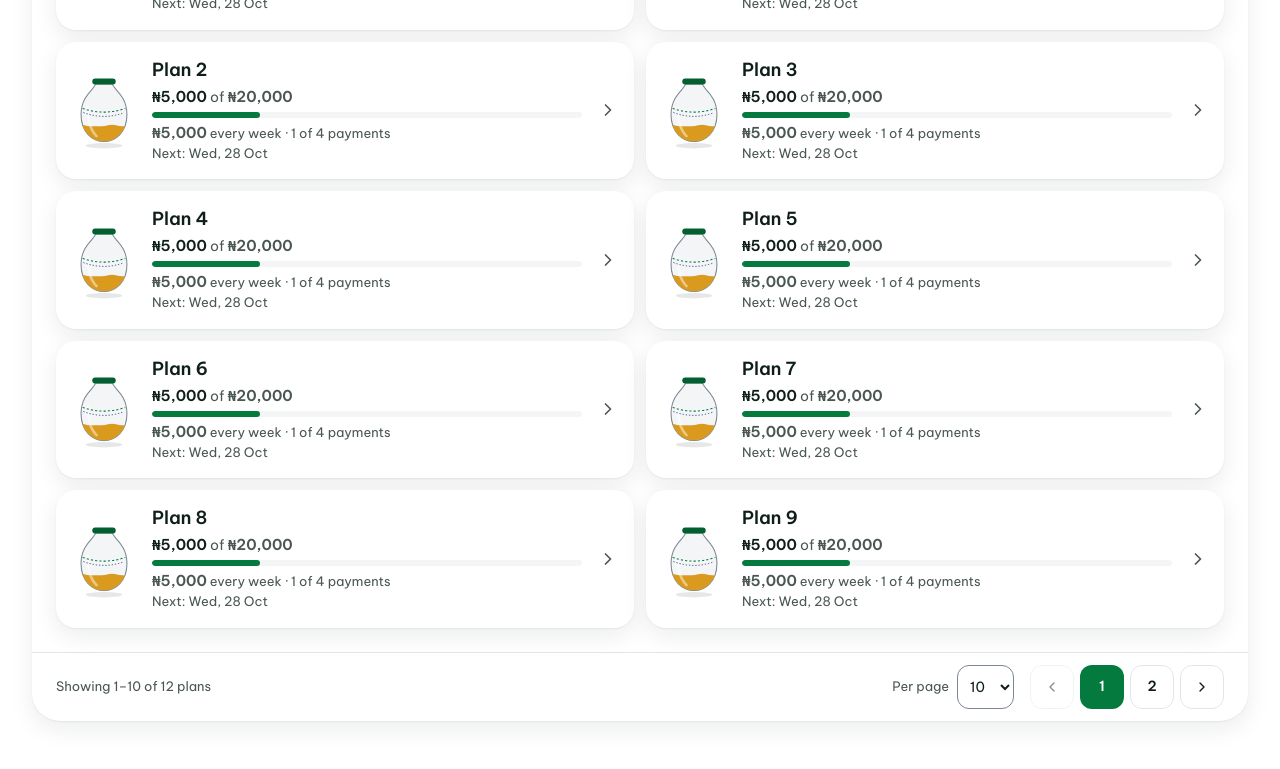
it: the savings home › pages through the plans, ten to a page
(page scrolled)
Expected: the text "Showing 1–10 of 12 plans" is shown, [56, 678, 211, 694]
Click the button named "Next page" at (1202, 686), box [1180, 664, 1224, 708]
(page scrolled)
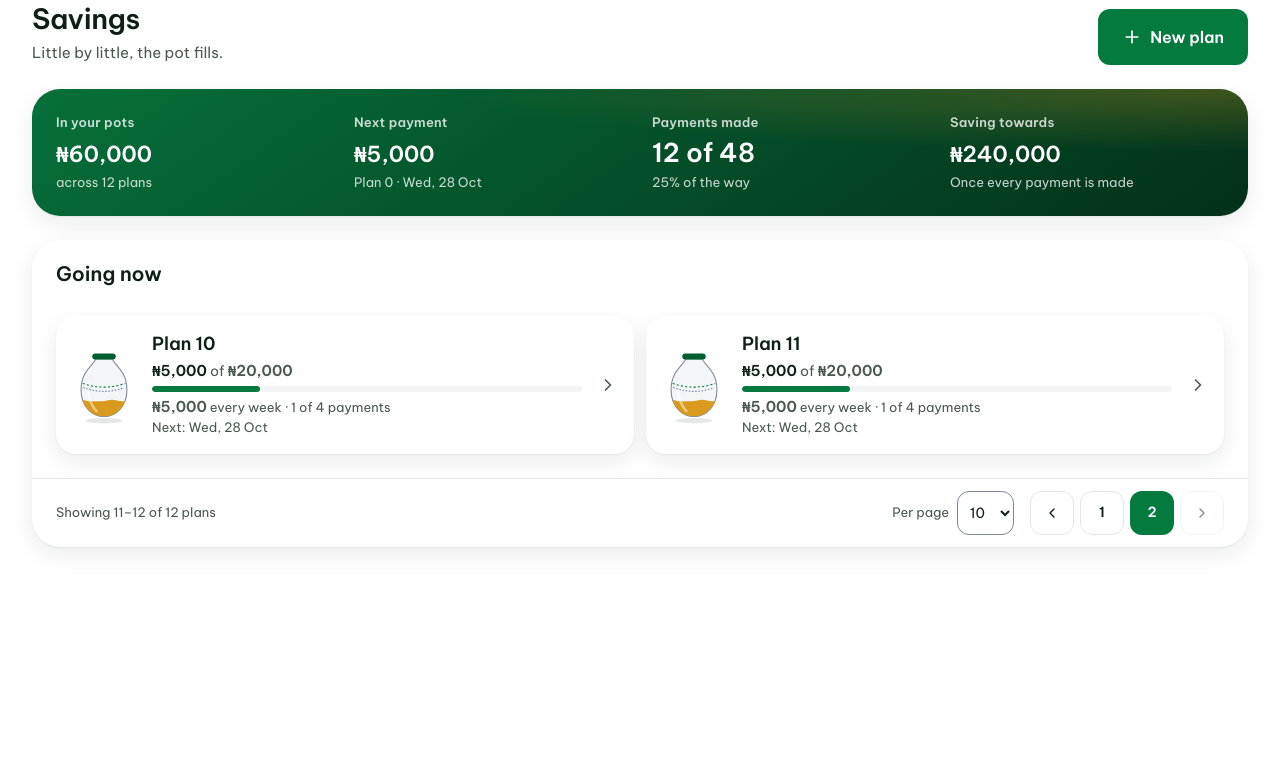
Now the text "Showing 11–12 of 12 plans" is shown, box [56, 504, 216, 520]
